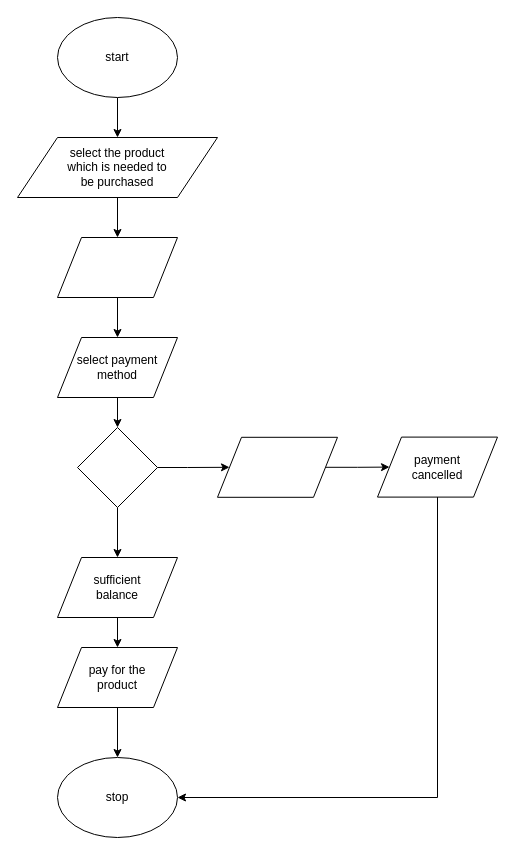
Image size: 515x855. Some labels were removed from this diagram. Here are the shapes that lost their labels. From the top down, the centre of each, then its label:
[117,267]: procced to payment
[117,467]: balance validation
[277,466]: insufficient balence
